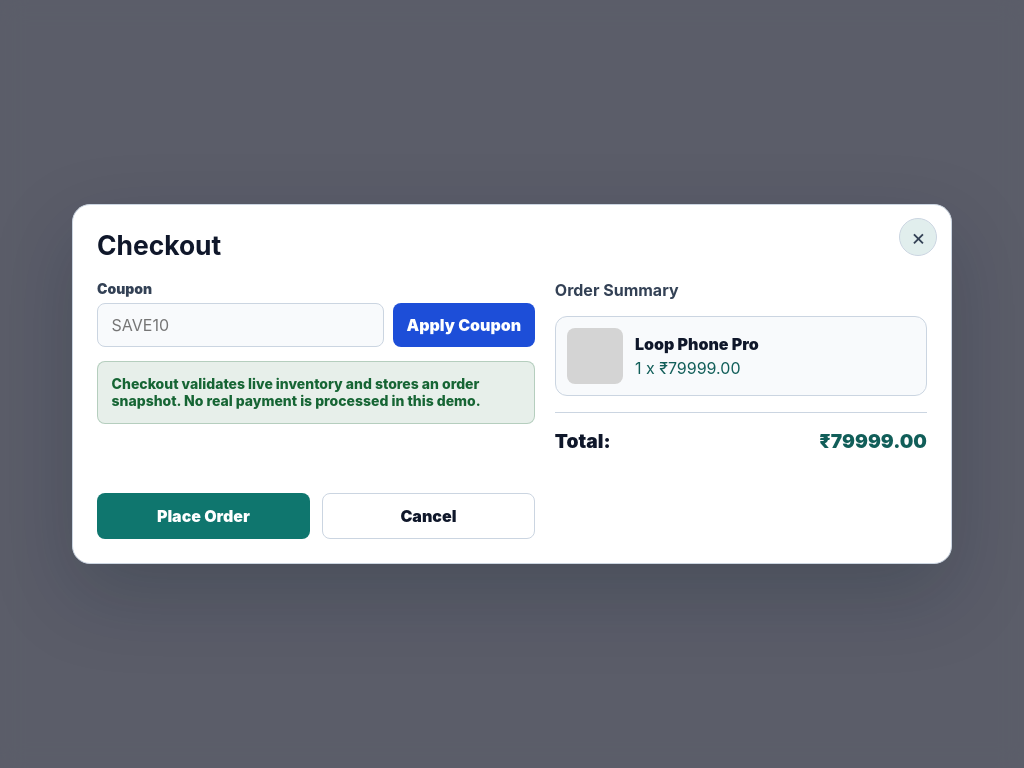
Test: Checkout › renders order failures inline
Step 1. Click the button "Place Order" → (203, 516), box [97,493,310,539]
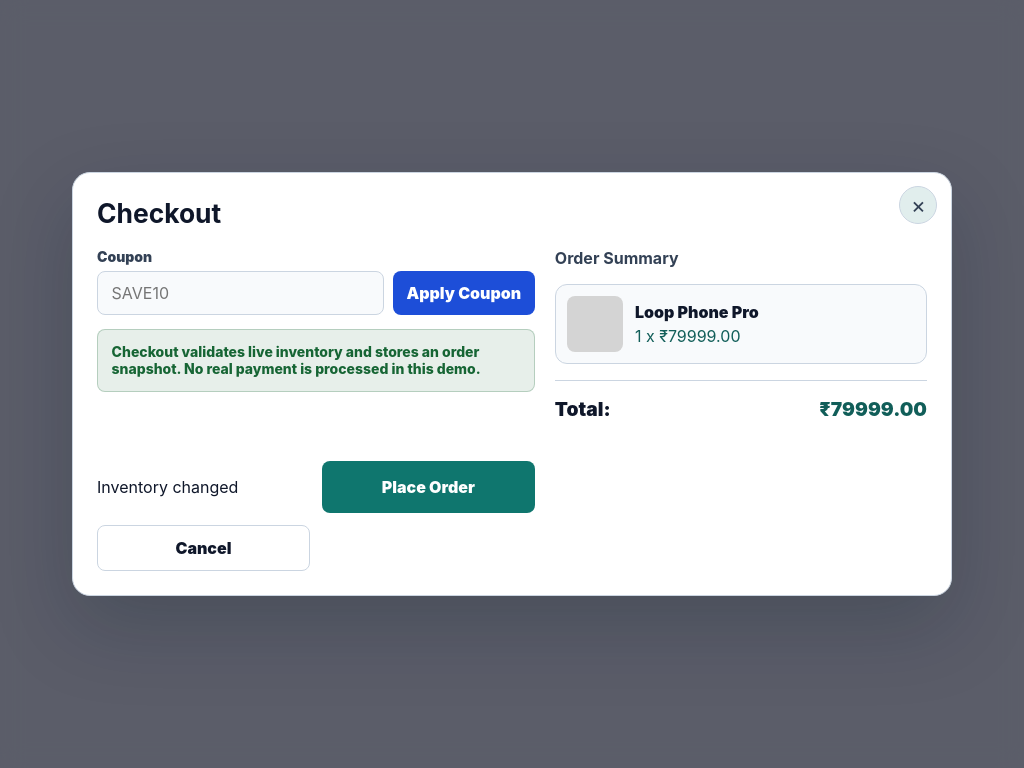
expect the message reads "Inventory changed": met, box [97,477,238,497]
